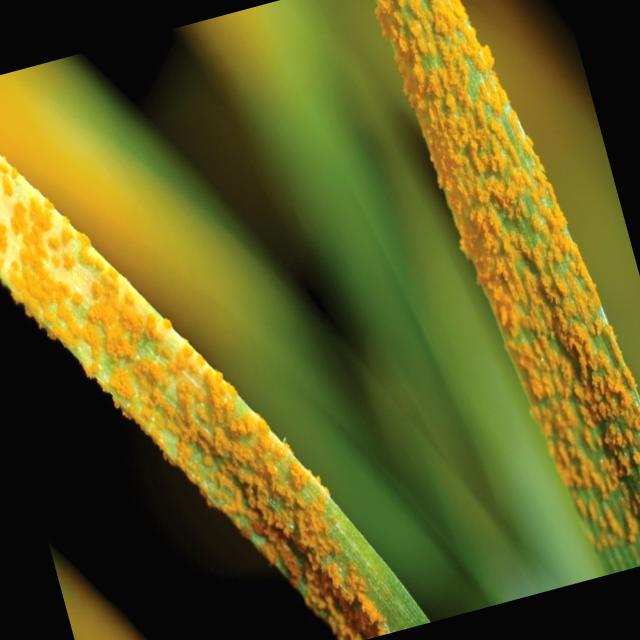leaf_rust: (0, 152, 428, 640), (377, 0, 640, 570)
